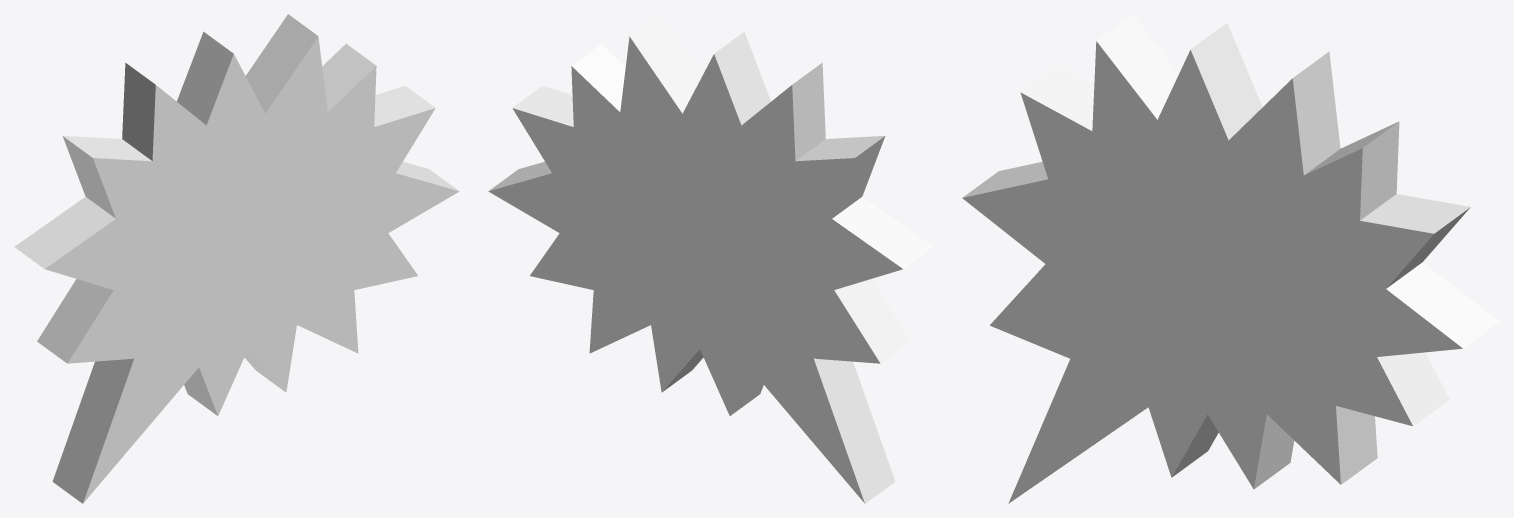
File: right_anger_bubble.gltf
3 views of the same model, side by side, from view 1: azimuth 30°, elevation 25°; view 2: azimuth 150°, elevation 25°; view 3: azimuth 330°, elevation 25° (orthographic). The views are drawn at different scales.
Visible parts, largest first — view 1: right anger bubble; view 2: right anger bubble; view 3: right anger bubble.
Part boxes in pixels (<box>): right anger bubble: <box>14,14,459,503</box>; right anger bubble: <box>488,14,933,503</box>; right anger bubble: <box>962,14,1499,503</box>.
Size of the model in its own units: 1.98 by 1.88 by 0.2506.
1 material, 1 textured.
